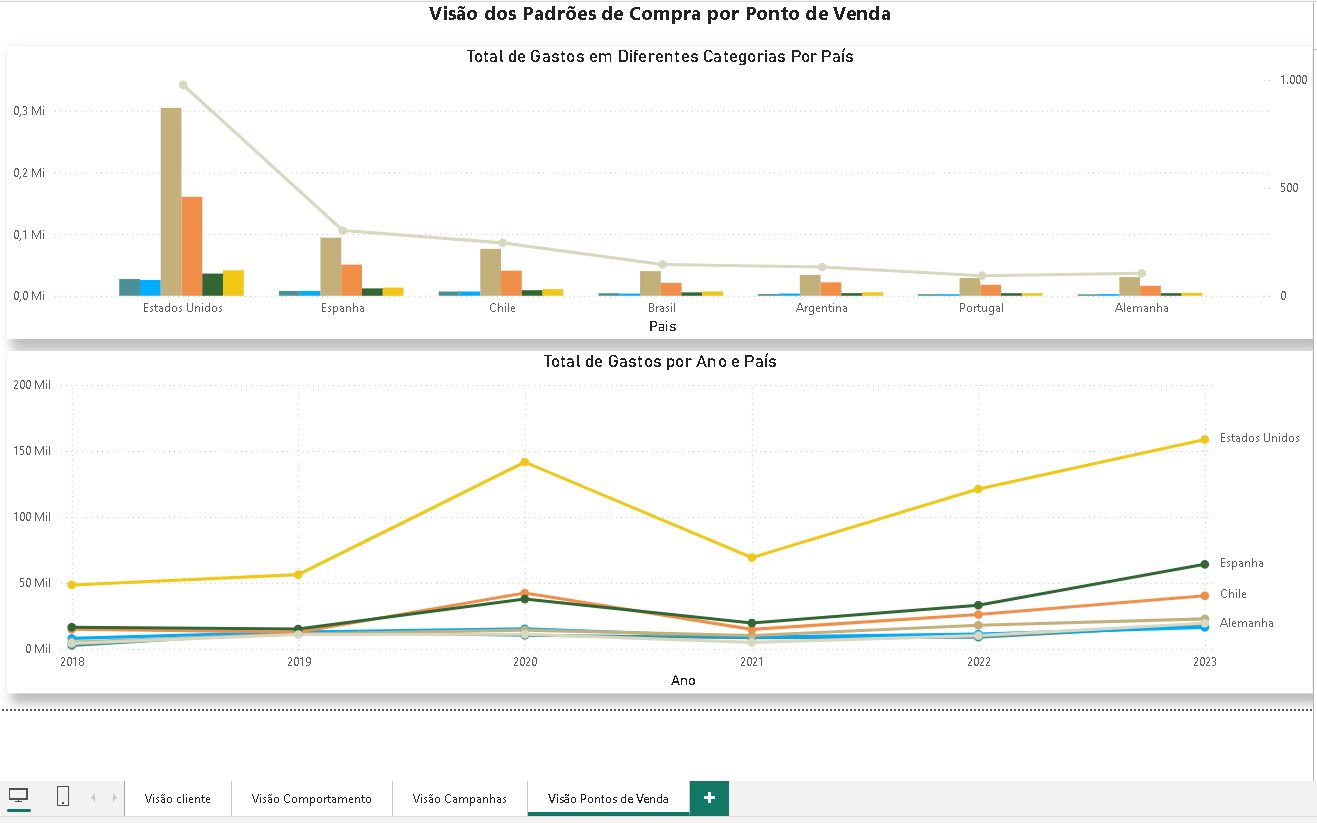

This screenshot's page, from the dashboard's own definition file:
{"tool":"powerbi","page":{"name":"Visão Pontos de Venda","canvas":[1280,720],"ordinal":3},"visuals":[{"type":"textbox","box":[9.7,0,1270.3,64.2],"z":0},{"type":"lineClusteredColumnComboChart","title":"Total de Gastos em Diferentes Categorias Por País","fields":{"Category":["DadosMarketing.Pais"],"Y":["Sum(DadosMarketing.Gasto com Alimentos)","Sum(DadosMarketing.Gasto com Brinquedos)","Sum(DadosMarketing.Gasto com Eletronicos)","Sum(DadosMarketing.Gasto com Moveis)","Sum(DadosMarketing.Gasto com Utilidades)","Sum(DadosMarketing.Gasto com Vestuario)"],"Y2":["CountNonNull(DadosMarketing.ID)"]},"box":[9.7,74.9,1270.3,285],"z":1},{"type":"lineChart","title":"Total de Gastos por Ano e País","fields":{"Y":["DadosMarketing.TotalGasto"],"Series":["DadosMarketing.Pais"],"Category":["DadosMarketing.Data Cadastro.Variation.Hierarquia de datas.Ano"]},"box":[9.7,371.6,1270.3,332.6],"z":2}]}

Visuals, with their boxes on the page's 1280x720 design canvas (x1, y1, x2, y2). These are canvas units, not pixel positions in the 1317x823 screenshot, which may show the page scaled, cropped or inside an application window:
textbox: (10, 0, 1280, 64)
"Total de Gastos em Diferentes Categorias Por País" lineClusteredColumnComboChart: (10, 75, 1280, 360)
"Total de Gastos por Ano e País" lineChart: (10, 372, 1280, 704)
